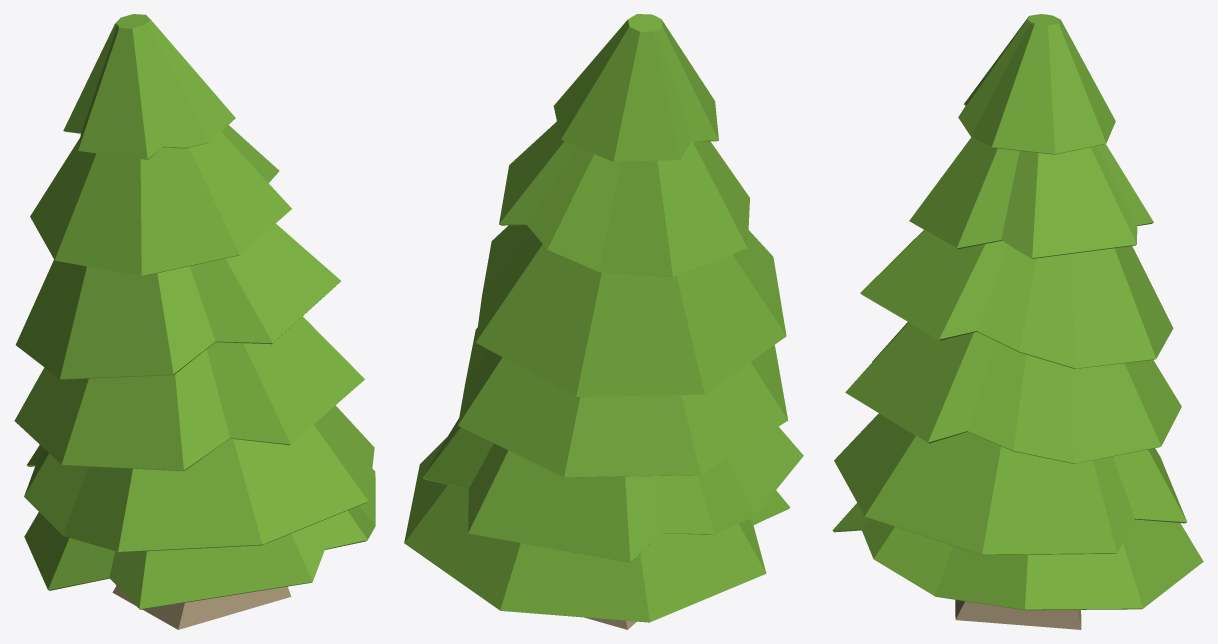
Rendered from Tree.fbx.
The picture shows the model from 3 angles, left to right: view 1: azimuth 30°, elevation 25°; view 2: azimuth 150°, elevation 25°; view 3: azimuth 270°, elevation 25°; orthographic projection. The views are drawn at different scales.
Parts seen in each view (by area): view 1: Tree_54; view 2: Tree_54; view 3: Tree_54.
Boxes of the visible parts, box(x1,y1,x2,y2) form: Tree_54: box(14, 14, 375, 629); Tree_54: box(404, 14, 803, 629); Tree_54: box(832, 14, 1203, 629).
Bounding box in the file's own units: 279 × 462 × 276.
